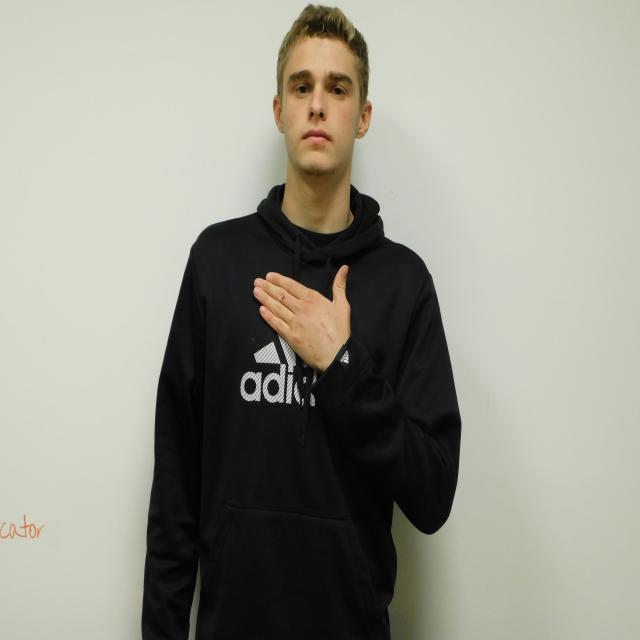my: (254, 264, 351, 368)
